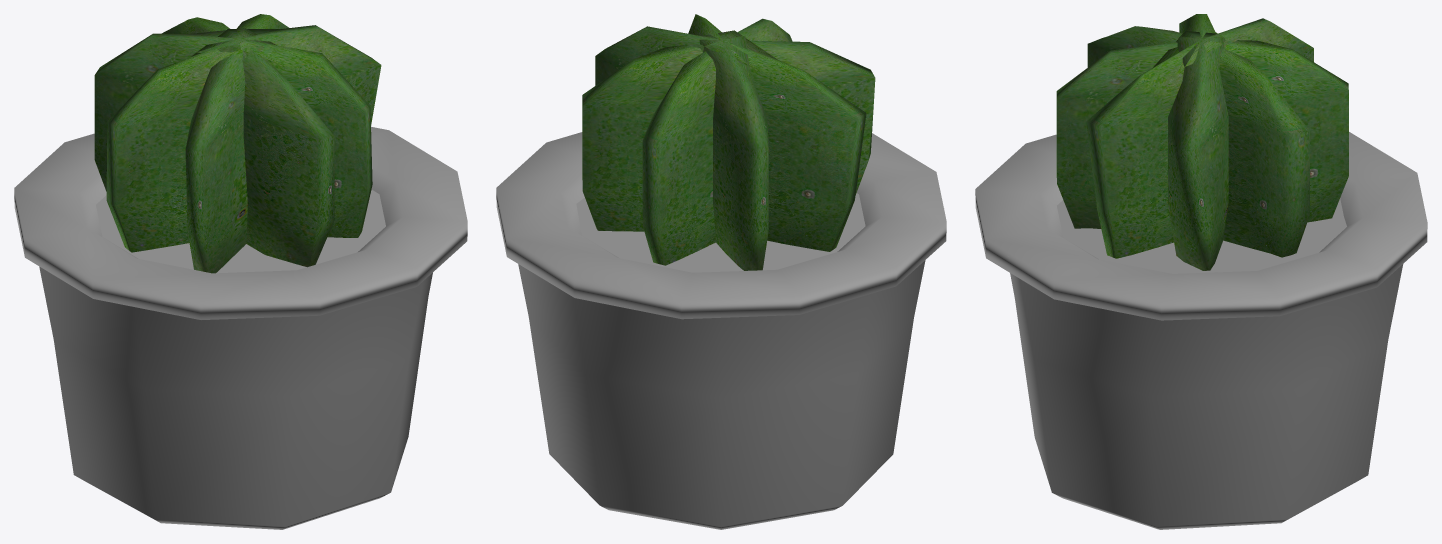
The model's file is Cactus_lod0.fbx.
The picture shows the model from 3 angles, left to right: view 1: azimuth 30°, elevation 25°; view 2: azimuth 150°, elevation 25°; view 3: azimuth 270°, elevation 25°; orthographic projection.
Parts seen in each view (by area): view 1: Cactus_lod0; view 2: Cactus_lod0; view 3: Cactus_lod0.
Part boxes in pixels (box(x1,y1,x2,y2)): Cactus_lod0: box(14, 14, 467, 529); Cactus_lod0: box(496, 14, 946, 529); Cactus_lod0: box(975, 14, 1427, 529).
Size of the model in its own units: 21.98 by 23.36 by 21.98.
Materials: 2 (1 with a texture image).
